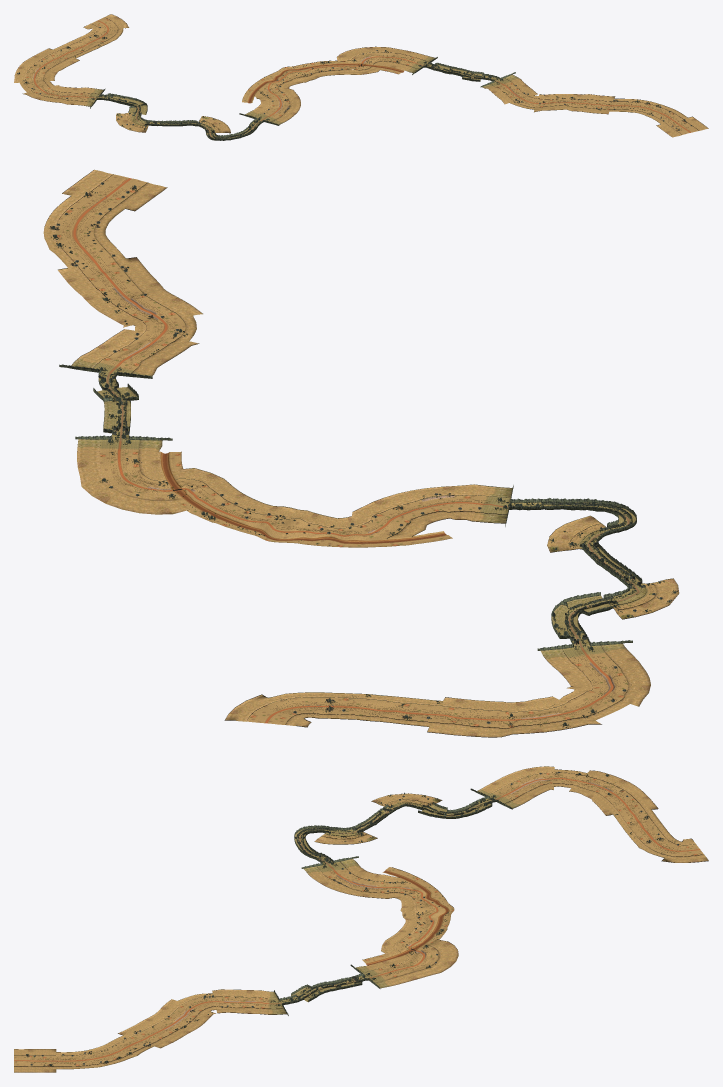
The model's file is kenya_stage5_visual.glb.
3 renders of one model, top to bottom at view 1: azimuth 30°, elevation 25°; view 2: azimuth 150°, elevation 25°; view 3: azimuth 270°, elevation 25°, orthographic. The views are drawn at different scales.
Parts seen in each view (by area): view 1: Track_Road_And_Terrain, Foliage_And_Vegetation; view 2: Track_Road_And_Terrain, Foliage_And_Vegetation; view 3: Track_Road_And_Terrain, Foliage_And_Vegetation.
Boxes of the visible parts, left/top/right/bottom form: Track_Road_And_Terrain: left=14, top=14, right=708, bottom=140; Foliage_And_Vegetation: left=17, top=26, right=691, bottom=138; Track_Road_And_Terrain: left=43, top=169, right=679, bottom=737; Foliage_And_Vegetation: left=49, top=182, right=677, bottom=727; Track_Road_And_Terrain: left=14, top=766, right=708, bottom=1072; Foliage_And_Vegetation: left=24, top=771, right=680, bottom=1066.
Bounding box in the file's own units: 3687 × 37.12 × 3546.
52 materials, 52 textured.
